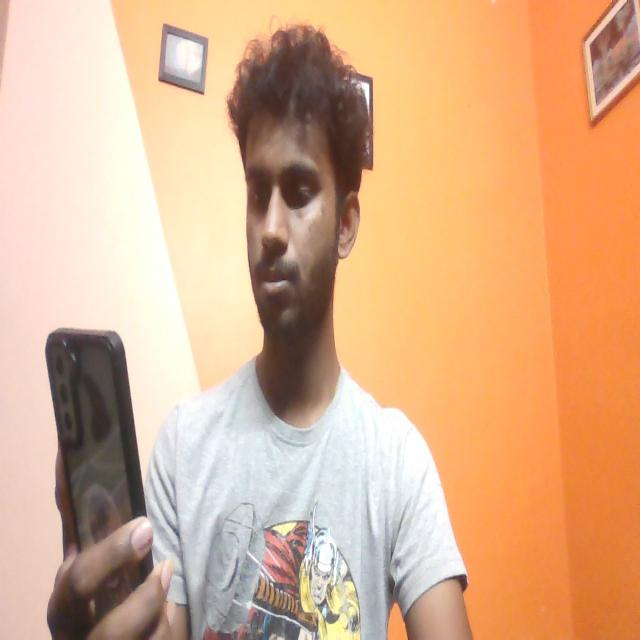phone: (43, 325, 143, 514)
